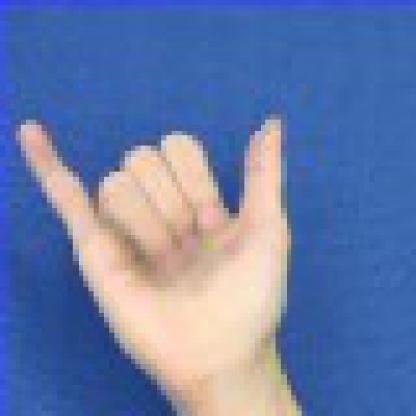six: (6, 99, 322, 411)
